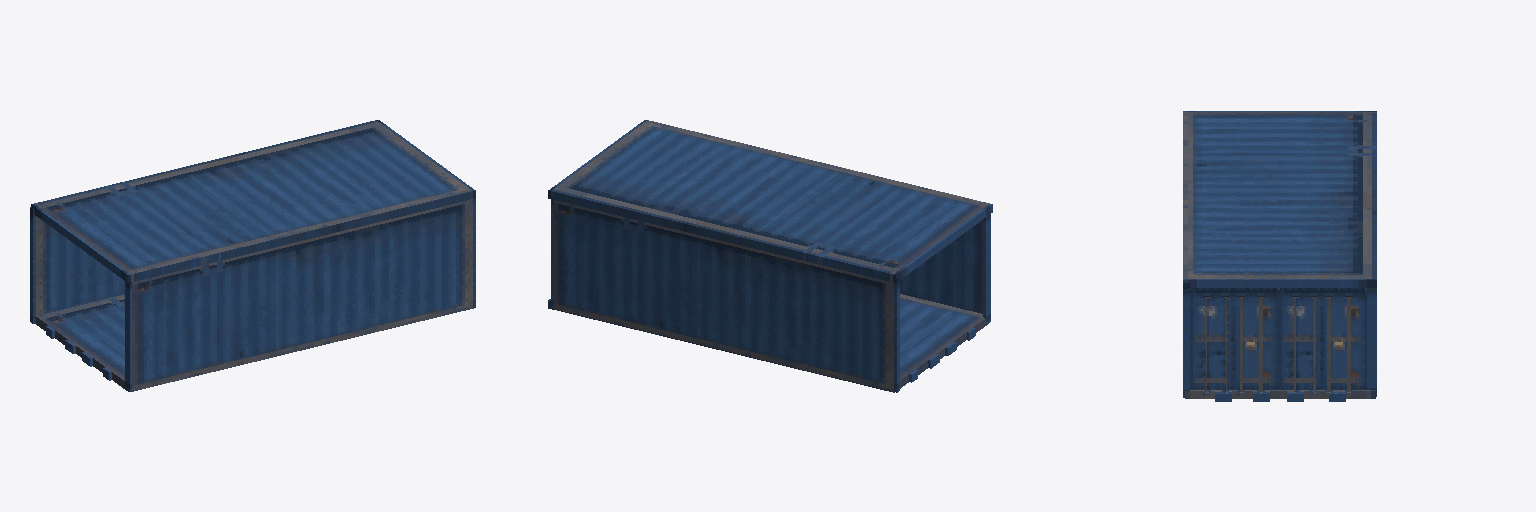
3 views of the same model, side by side, from view 1: azimuth 30°, elevation 25°; view 2: azimuth 150°, elevation 25°; view 3: azimuth 270°, elevation 25° (orthographic).
Visible parts, largest first — view 1: 38_3_door.001_38_3_door.001; view 2: 38_3_door.001_38_3_door.001; view 3: 38_3_door.001_38_3_door.001.
Boxes of the visible parts, x1=… form: 38_3_door.001_38_3_door.001: x1=30, y1=120, x2=475, y2=391; 38_3_door.001_38_3_door.001: x1=548, y1=120, x2=992, y2=392; 38_3_door.001_38_3_door.001: x1=1183, y1=111, x2=1376, y2=401.
Bounding box in the file's own units: 25.94 × 8.28 × 12.26.
2 materials, 2 textured.